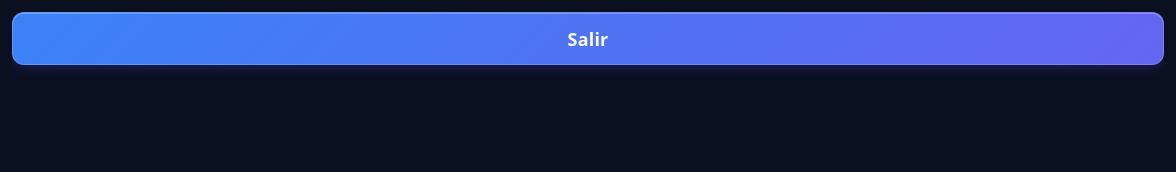
ConfirmButton › Debería mostrar el mensaje y las acciones al pulsar el botón inicial
Click the button "Salir" at [588, 39], box top-left (12, 12), bottom-right (1164, 65)
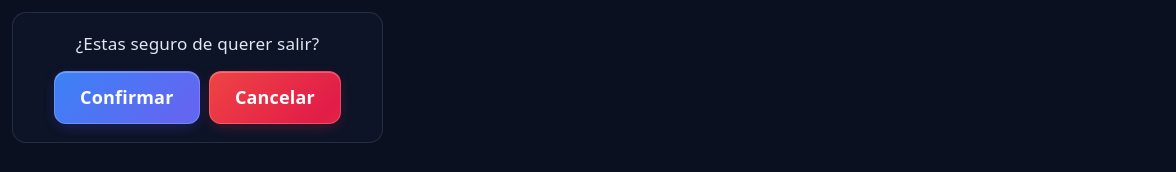
expect the text "¿Estas seguro de querer salir?" is shown: met, box top-left (76, 32), bottom-right (319, 55)
expect the button "Confirmar" is shown: met, box top-left (54, 71), bottom-right (200, 124)
expect the button "Cancelar" is shown: met, box top-left (209, 71), bottom-right (341, 124)
